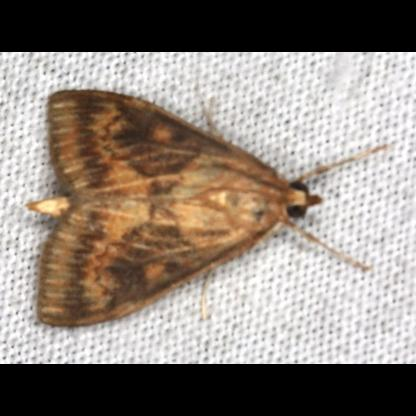Asian Corn Borer Moth: (23, 86, 392, 332)
